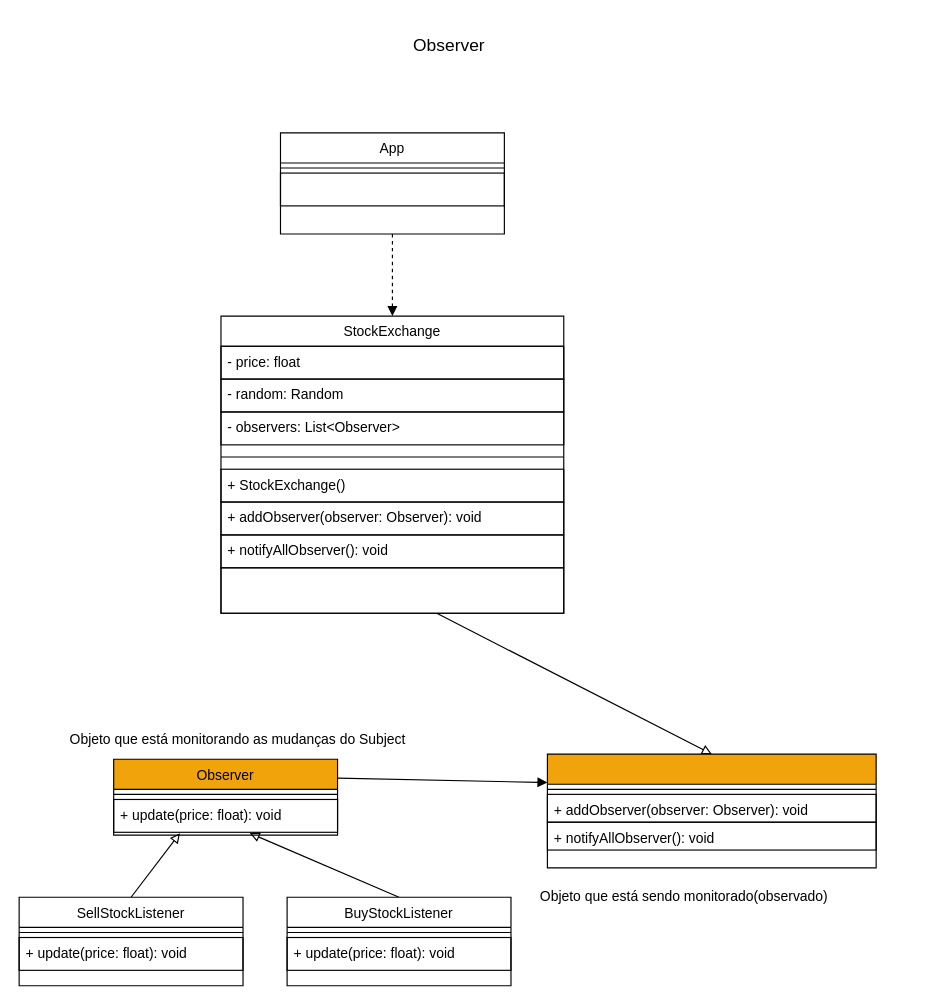
Some shapes in this 930 by 1005 pixel diagram are drawn without their labels. The shapes that lost their labels are listed below. From the top down, each one's box as (x1, y1, x2, y2) in pixels, then its label:
(279, 172, 504, 206): + main(args: String[]): void
(220, 567, 564, 613): + start(): void
(546, 753, 876, 868): Subject
